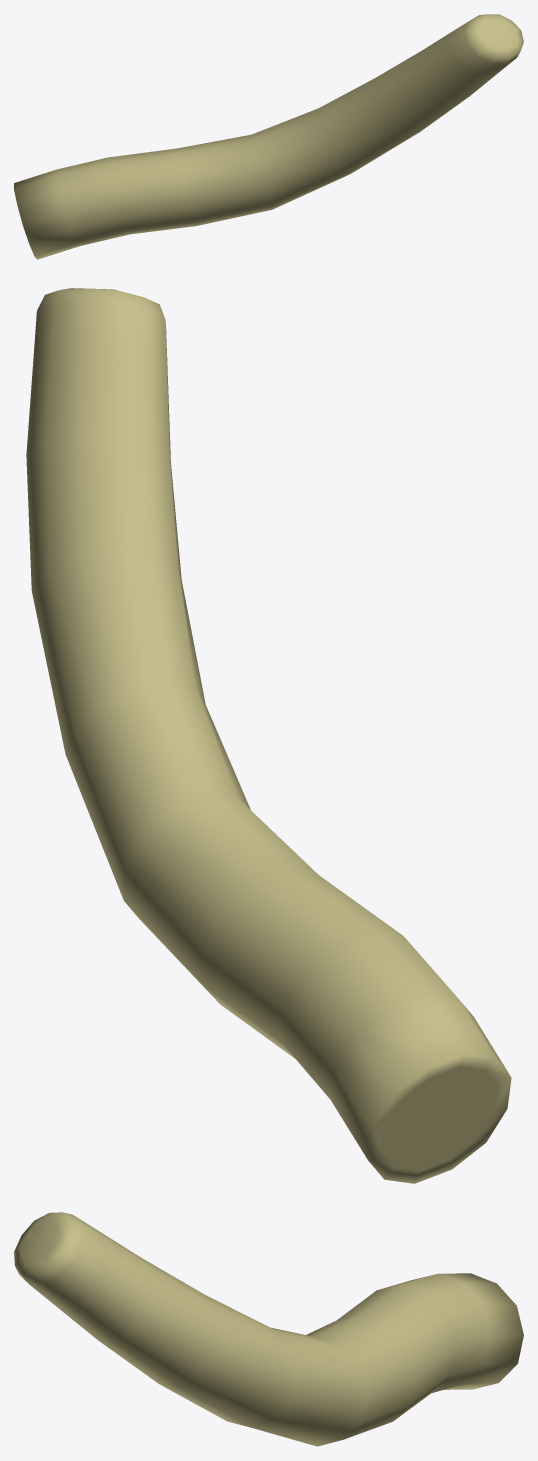
The model's file is Nerves_L4.FBX.
The picture shows the model from 3 angles, top to bottom: view 1: azimuth 30°, elevation 25°; view 2: azimuth 150°, elevation 25°; view 3: azimuth 270°, elevation 25°; orthographic projection. The views are drawn at different scales.
Parts seen in each view (by area): view 1: Nerves_L4; view 2: Nerves_L4; view 3: Nerves_L4.
Boxes of the visible parts, left/top/right/bottom form: Nerves_L4: left=14, top=14, right=523, bottom=259; Nerves_L4: left=26, top=288, right=511, bottom=1183; Nerves_L4: left=14, top=1212, right=523, bottom=1446.
Bounding box in the file's own units: 0.00792 × 0.00555 × 0.00676.
